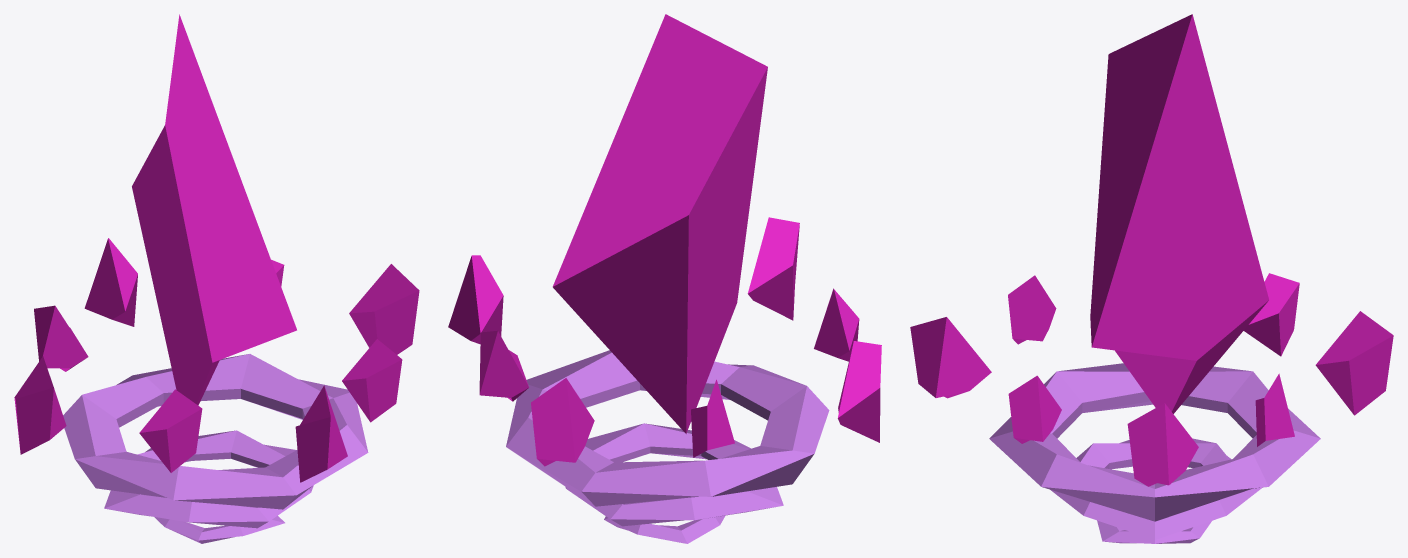
File: space_crytal.glb
3 renders of one model, left to right at view 1: azimuth 30°, elevation 25°; view 2: azimuth 150°, elevation 25°; view 3: azimuth 270°, elevation 25°, orthographic. The views are drawn at different scales.
Parts seen in each view (by area): view 1: Cube, Torus, Torus.001, Cube.008, Cube.002, Cube.007, Cube.004, Cube.005, Cube.006, Cube.003, Torus.002; view 2: Cube, Torus, Torus.001, Cube.006, Cube.005, Cube.007, Cube.008, Cube.001, Cube.002, Cube.003, Torus.002; view 3: Cube, Torus, Torus.001, Cube.006, Cube.005, Cube.008, Cube.003, Cube.004, Cube.002, Cube.001, Torus.002.
Boxes of the visible parts, x1,y1,x2,y2 form: Cube: (132, 14, 296, 405); Torus: (63, 354, 368, 509); Torus.001: (104, 430, 313, 528); Cube.008: (349, 264, 419, 354); Cube.002: (139, 389, 202, 472); Cube.007: (14, 356, 66, 454); Cube.004: (342, 339, 402, 422); Cube.005: (295, 385, 347, 482); Cube.006: (84, 238, 137, 326); Cube.003: (34, 305, 88, 371); Torus.002: (154, 515, 284, 543); Cube: (552, 14, 767, 433); Torus: (506, 350, 829, 506); Torus.001: (565, 423, 783, 526); Cube.006: (531, 378, 594, 466); Cube.005: (747, 217, 799, 320); Cube.007: (837, 341, 881, 442); Cube.008: (448, 255, 503, 344); Cube.001: (479, 330, 528, 401); Cube.002: (814, 288, 859, 361); Cube.003: (691, 379, 734, 457); Torus.002: (604, 515, 724, 543); Cube: (1090, 14, 1268, 413); Torus: (989, 363, 1320, 521); Torus.001: (1050, 438, 1261, 539); Cube.006: (1315, 311, 1393, 415); Cube.005: (910, 317, 991, 398); Cube.008: (1127, 403, 1198, 486); Cube.003: (1243, 273, 1299, 356); Cube.004: (1008, 375, 1061, 443); Cube.002: (1008, 275, 1056, 344); Cube.001: (1255, 373, 1294, 446); Torus.002: (1097, 520, 1211, 543).
Bounding box in the file's own units: 10.58 × 12.57 × 10.88.
